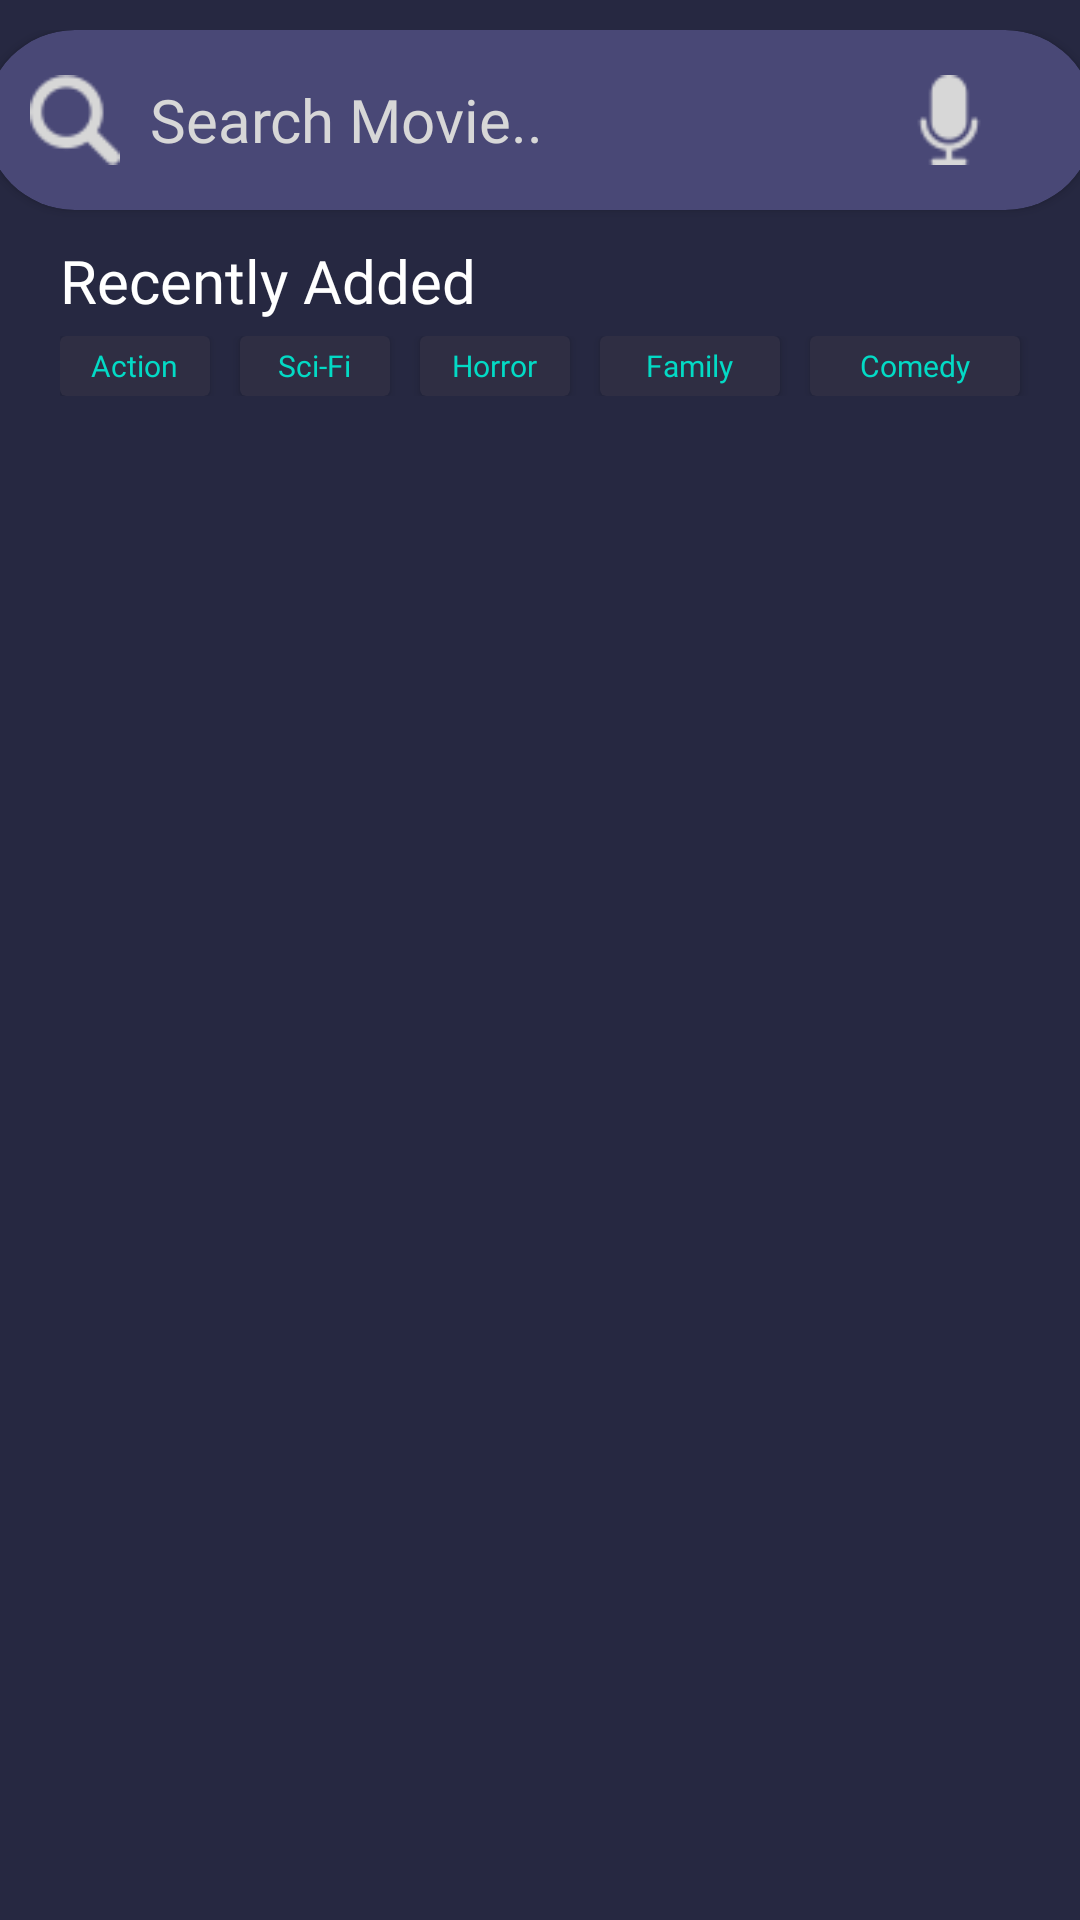

Icons on this 1080 x 1920 Android screen, each with its box as detection(x1, y1, x2, y2):
voice: detection(919, 75, 979, 165)
